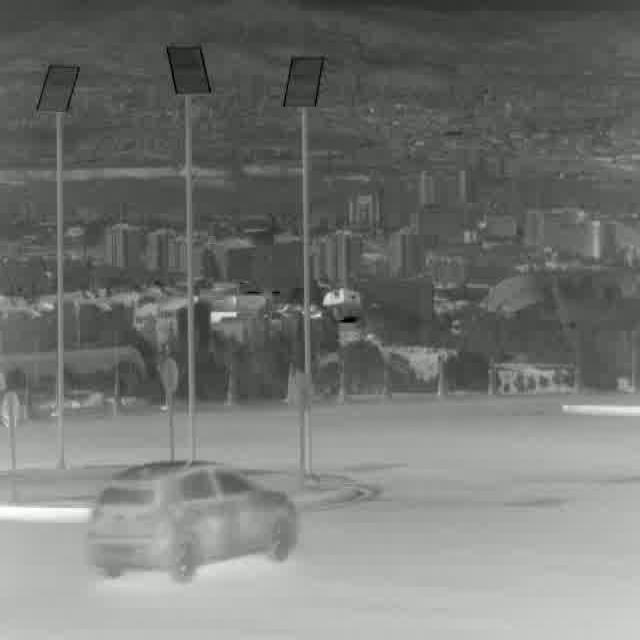Car: (83, 461, 298, 582)
